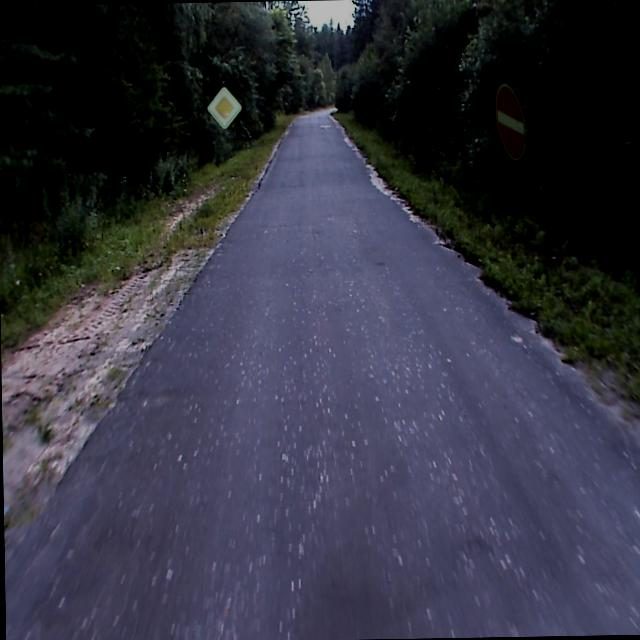road: (4, 108, 640, 640)
